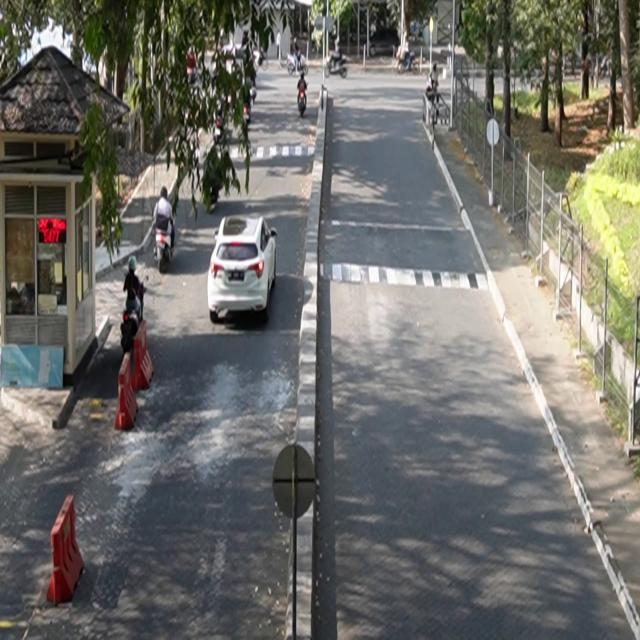car: (208, 215, 278, 323)
